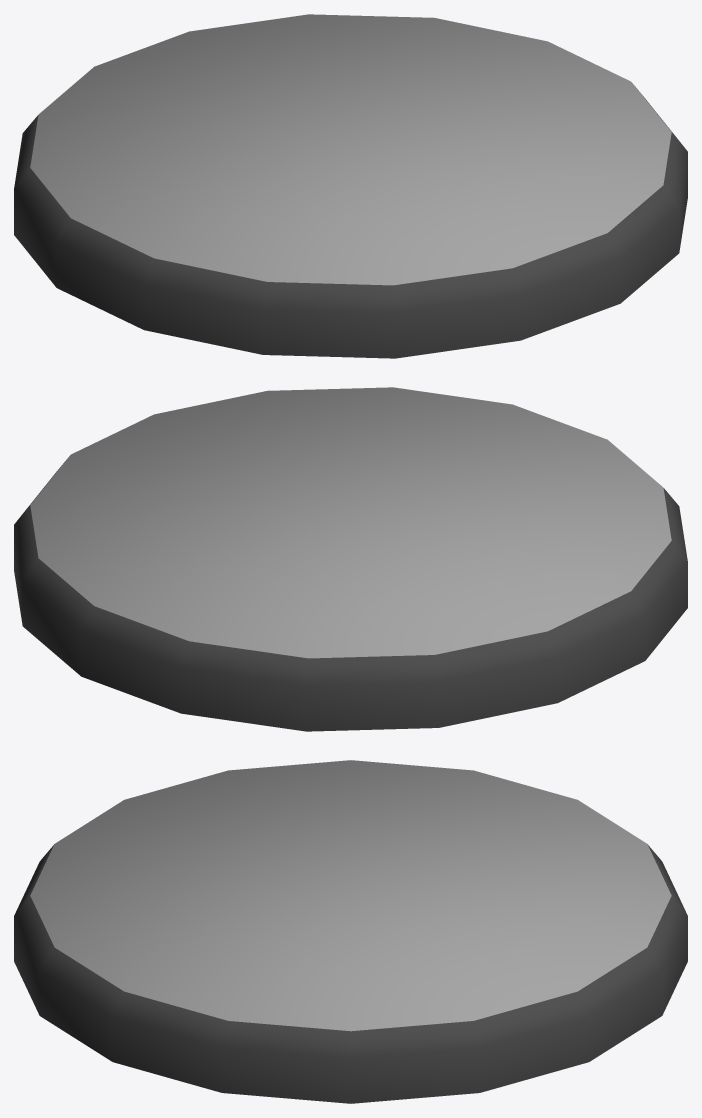
Rendered from diff_4.1.fbx.
3 views of the same model, one above another, from view 1: azimuth 30°, elevation 25°; view 2: azimuth 150°, elevation 25°; view 3: azimuth 270°, elevation 25° (orthographic).
Parts seen in each view (by area): view 1: Cylinder.003; view 2: Cylinder.003; view 3: Cylinder.003.
Part boxes in pixels (left/top/right/bottom): Cylinder.003: left=14, top=14, right=687, bottom=358; Cylinder.003: left=14, top=387, right=687, bottom=731; Cylinder.003: left=14, top=760, right=687, bottom=1103.
Bounding box in the file's own units: 291 × 31.34 × 291.
